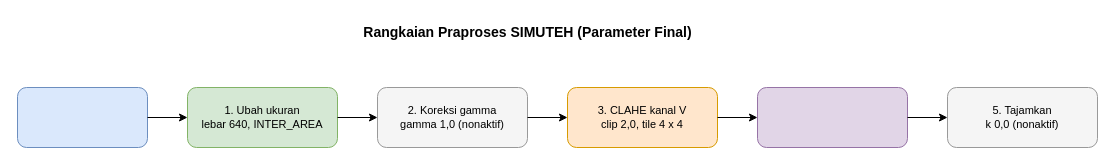
The diagram is 1115 pixels wide and 165 high, and some of its shapes have lost their labels. The shapes that lost their labels are listed below. From the top down, each one's box as (x1, y1, x2, y2) in pixels, then its label:
(16, 86, 148, 148): Citra masuk 640 x 480 (BGR)
(756, 86, 908, 148): 4. Redam derau median, kernel 3
